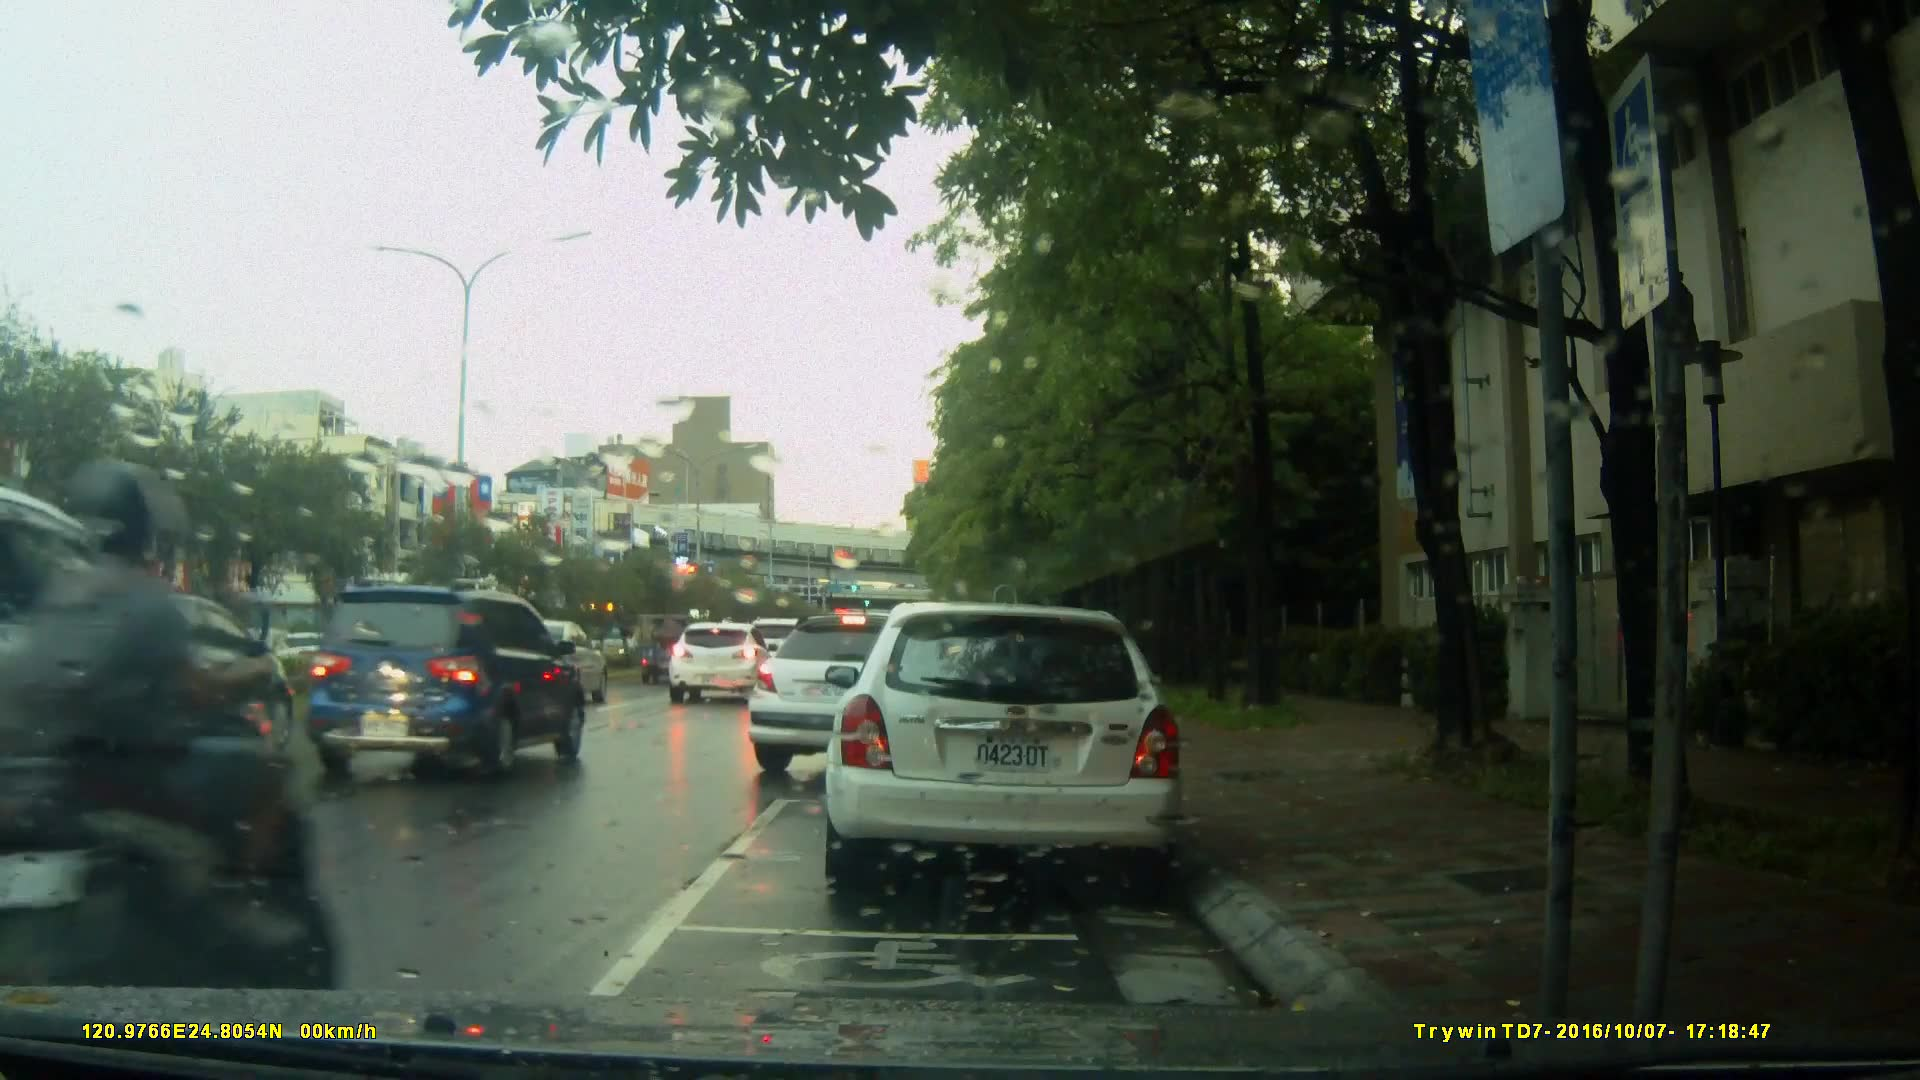rider: (7, 456, 332, 1058)
vehicle: (1, 471, 287, 967), (820, 602, 1188, 898), (298, 576, 592, 779), (741, 611, 1023, 786), (667, 620, 770, 706)
